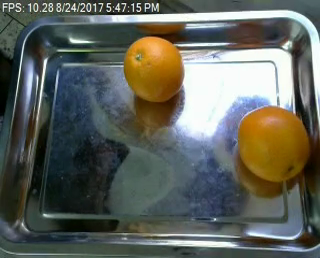Orange: (237, 105, 309, 181), (123, 36, 184, 103)
